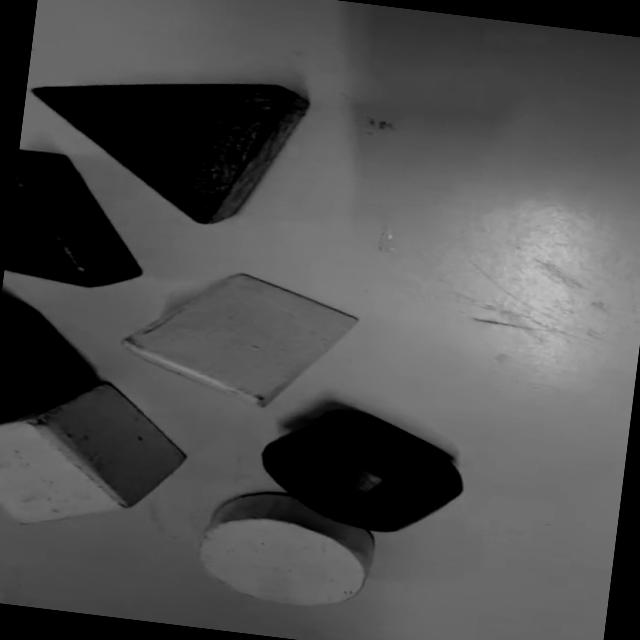btriangle: (22, 59, 310, 234)
rcircle: (256, 402, 467, 540)
ycircle: (192, 486, 378, 614)
ycube: (0, 382, 185, 523)
ytriangle: (120, 262, 356, 416)
